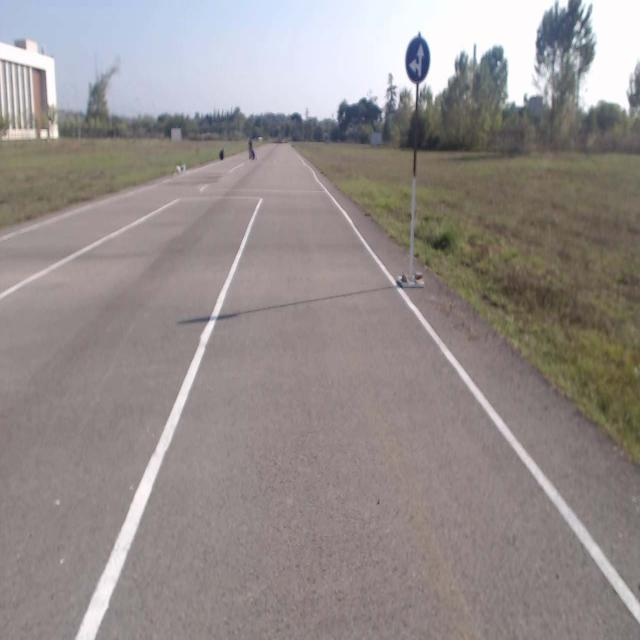ilerisol: (406, 37, 430, 82)
